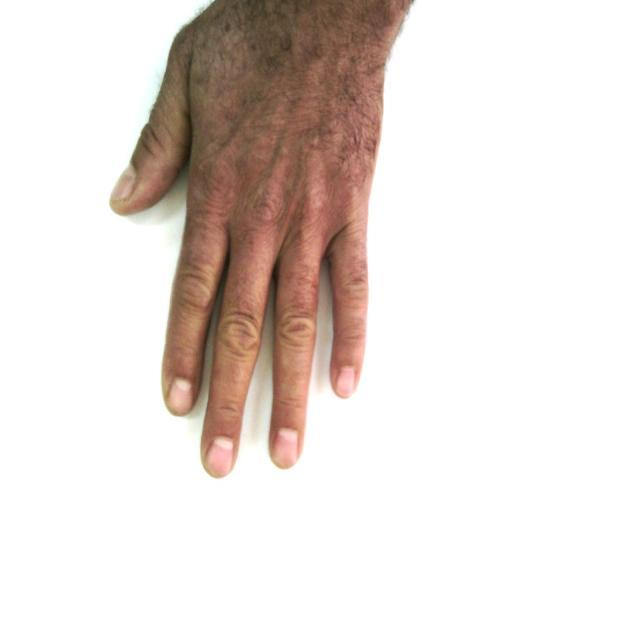Fingernail: (207, 439, 234, 477), (273, 429, 298, 468), (111, 167, 135, 202), (170, 379, 193, 415), (337, 367, 355, 397)
